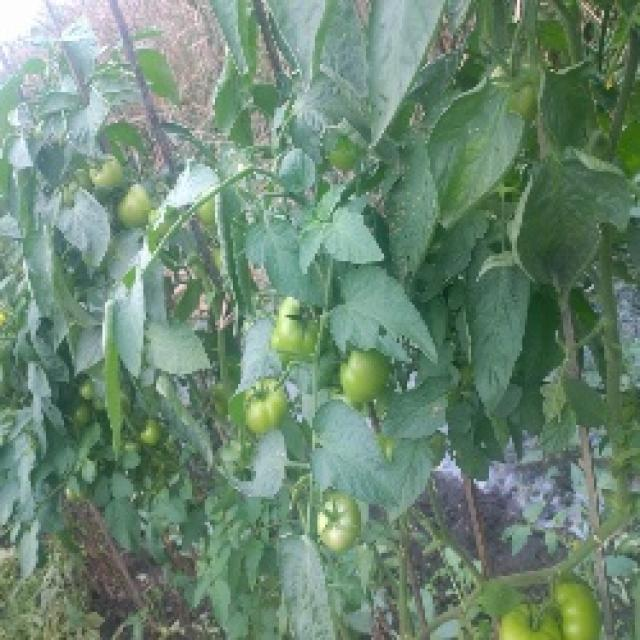tomato: (552, 575, 611, 640), (274, 299, 327, 368), (341, 346, 396, 407), (496, 53, 544, 115), (235, 382, 291, 433), (314, 493, 366, 547), (497, 602, 561, 640), (119, 179, 157, 233), (91, 157, 124, 187), (141, 420, 163, 453), (81, 382, 104, 407), (73, 404, 92, 431)
